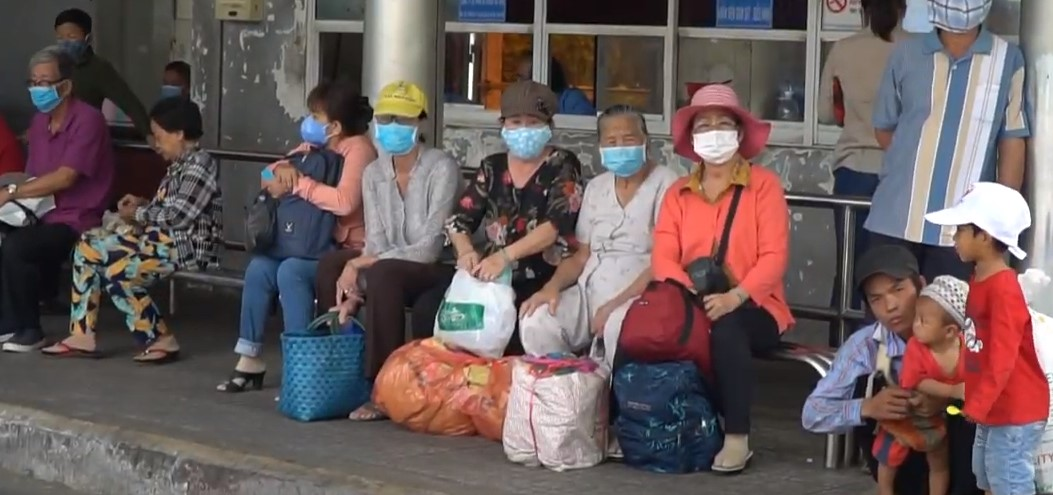face_no_mask: (860, 260, 919, 343), (147, 105, 200, 164)
face_with_mask: (683, 87, 754, 170), (495, 77, 560, 166), (293, 78, 360, 150), (592, 103, 653, 182), (370, 84, 430, 155), (28, 50, 75, 112)
